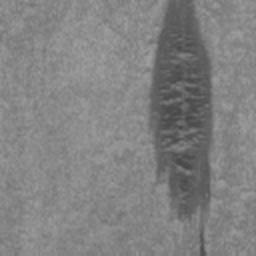Oxide scale of plate system: (148, 0, 214, 256)
